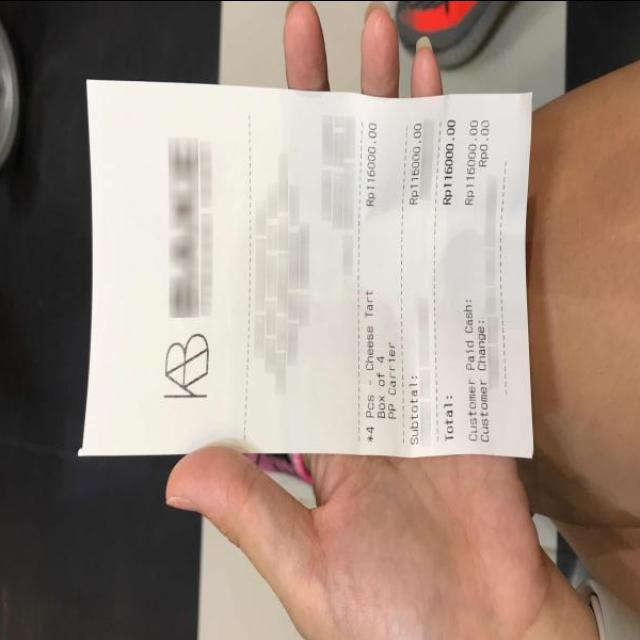kertas: (81, 81, 533, 455)
